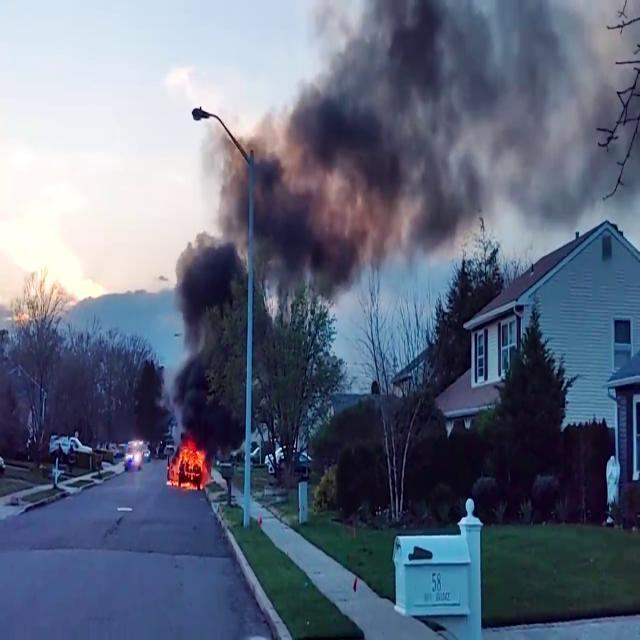Fire: (167, 436, 211, 494)
Smoke: (178, 1, 615, 268), (169, 230, 250, 433)
